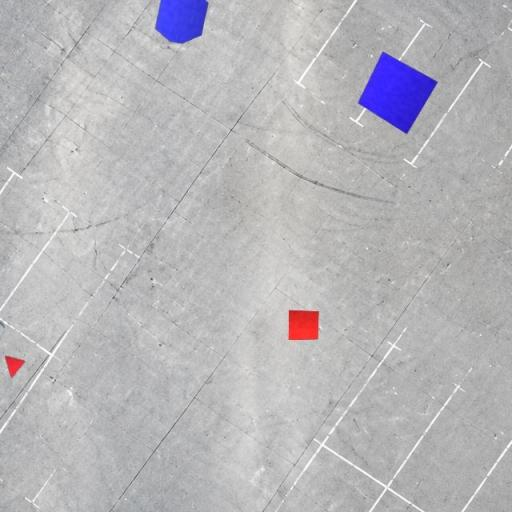BLUE_SQUARE: (358, 51, 439, 135)
RED_SQUARE: (288, 310, 319, 340)
